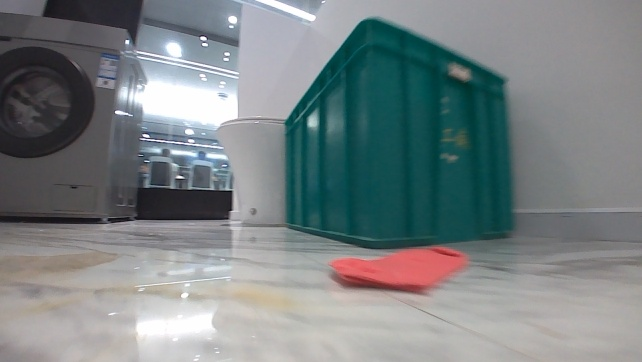socks: (321, 237, 472, 295)
toilet: (209, 115, 286, 225)
washing_machine: (1, 10, 149, 225)
